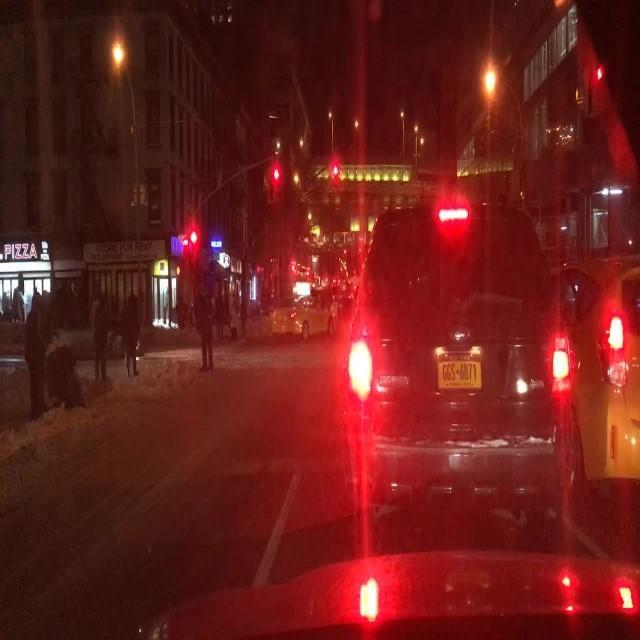normal: (309, 176, 640, 541)
